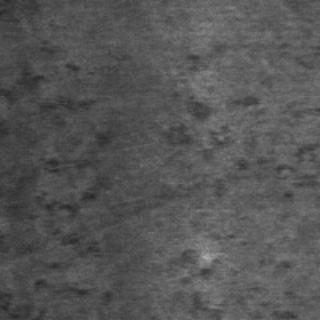rolled pit: (1, 58, 108, 318), (158, 170, 248, 314), (160, 48, 264, 172)
